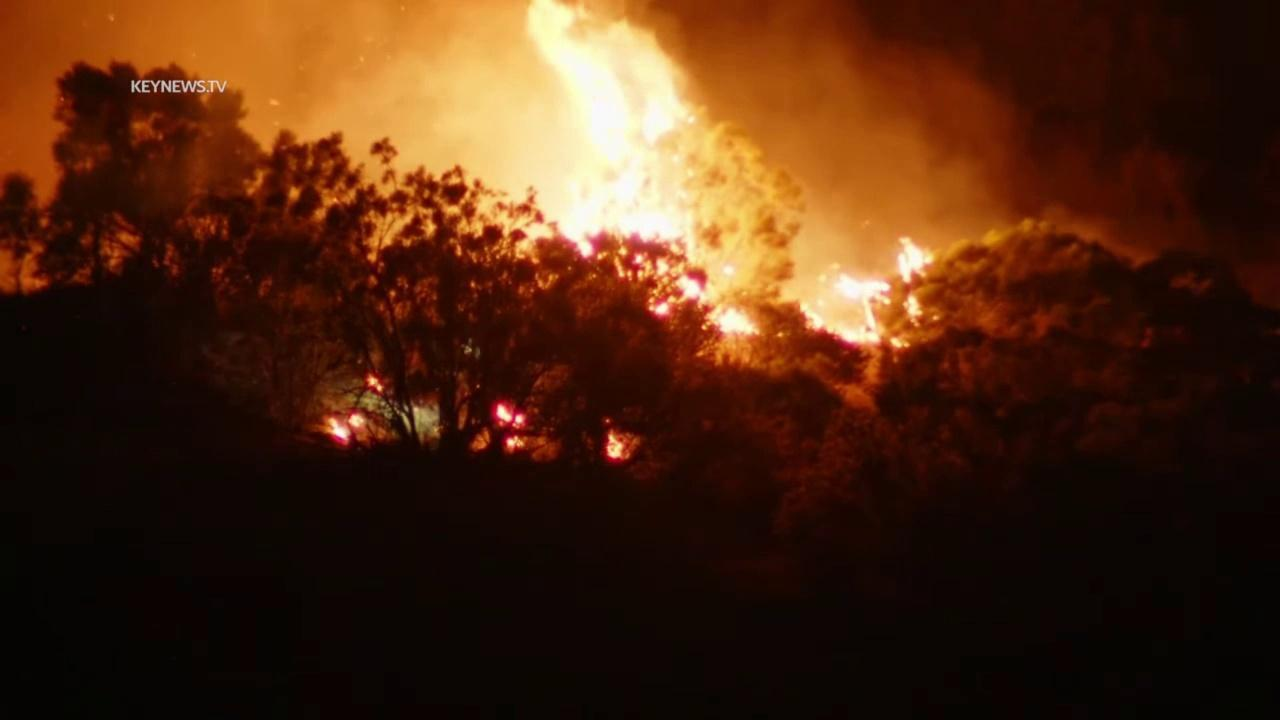fire: (511, 2, 763, 343), (801, 233, 932, 351), (483, 404, 527, 455), (325, 407, 368, 447), (600, 415, 627, 459), (362, 374, 387, 395)
smoke: (0, 0, 1280, 333)
